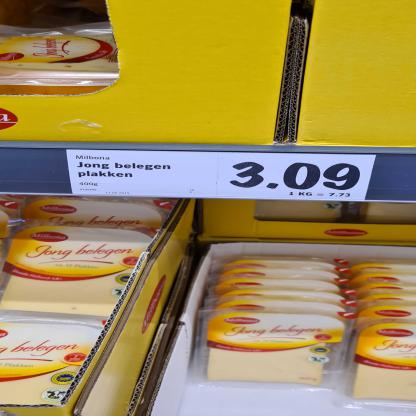prtg: (68, 150, 377, 202)
